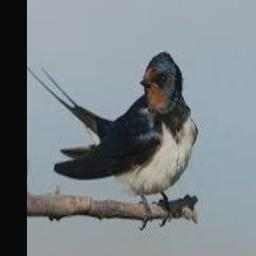Swallow: (27, 52, 196, 224)
